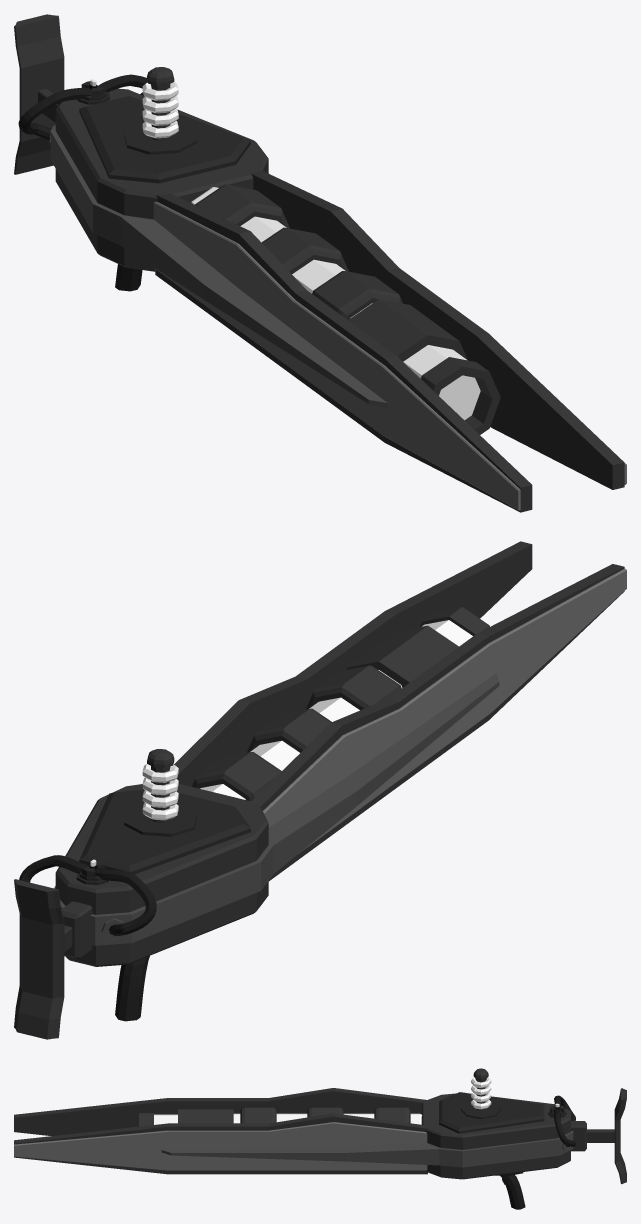
The model's file is ElectroGun.fbx.
3 views of the same model, one above another, from view 1: azimuth 30°, elevation 25°; view 2: azimuth 150°, elevation 25°; view 3: azimuth 270°, elevation 25° (orthographic). The views are drawn at different scales.
Parts seen in each view (by area): view 1: ElectroGun; view 2: ElectroGun; view 3: ElectroGun.
Boxes of the visible parts, x1,y1,x2,y2 form: ElectroGun: (14,14,626,512); ElectroGun: (14,541,626,1039); ElectroGun: (14,1068,626,1209).
Size of the model in its own units: 25.18 by 34.4 by 140.
